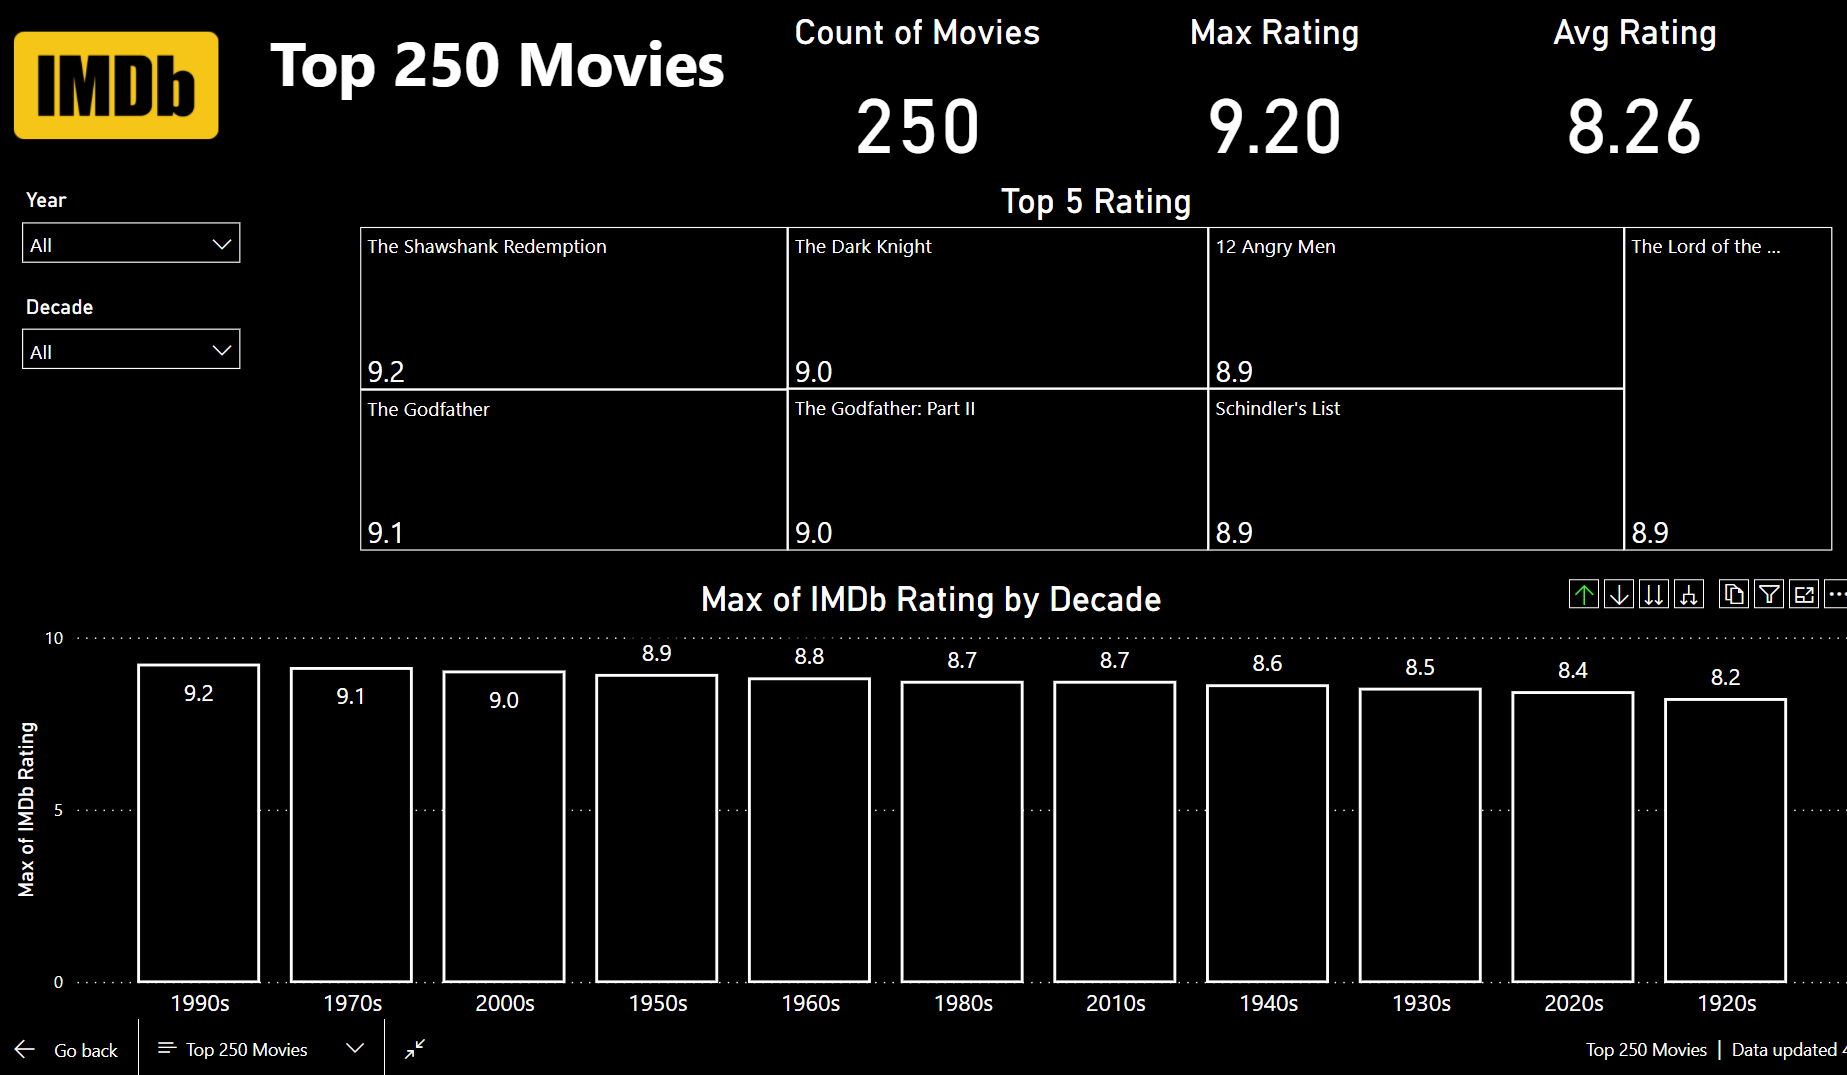

Layout of this report page (visuals, bound fields, positions):
{"tool":"powerbi","page":{"name":"Top 250 Movies","canvas":[1280,720],"ordinal":0},"visuals":[{"type":"card","title":"Count of Movies","fields":{"Values":["Top 250 Movies.Count of Movies"]},"box":[523.8,0,213.5,116.9],"z":0},{"type":"lineStackedColumnComboChart","fields":{"Y":["Max(Top 250 Movies.IMDb Rating)"],"Category":["Top 250 Movies.Decade Hierarchy.Decade","Top 250 Movies.Decade Hierarchy.Year"]},"box":[0,392.5,1279.8,327.5],"z":1000},{"type":"card","title":"Max Rating","fields":{"Values":["Max(Top 250 Movies.IMDb Rating)"]},"box":[764.7,0,225.1,116.9],"z":2000},{"type":"card","title":"Avg Rating","fields":{"Values":["Avg(Top 250 Movies.IMDb Rating)"]},"box":[1011.5,0,230.9,116.9],"z":3000},{"type":"textbox","box":[171.7,0,336.2,92.3],"z":4000},{"type":"slicer","fields":{"Values":["Top 250 Movies.Year"]},"box":[0,116.9,171.7,73.6],"z":5000},{"type":"slicer","fields":{"Values":["Top 250 Movies.Decade"]},"box":[0,190.5,171.7,70.7],"z":6000},{"type":"treemap","title":"Top 5 Rating","fields":{"Group":["Top 250 Movies.Title"],"Values":["Sum(Top 250 Movies.IMDb Rating)"]},"box":[239.5,116.9,1028.8,261.2],"z":7000},{"type":"image","box":[0,0,151.5,101.8],"z":8000}]}

Visuals, with their boxes on the page's 1280x720 design canvas (x1, y1, x2, y2). These are canvas units, not pixel positions in the 1847x1075 screenshot, which may show the page scaled, cropped or inside an application window:
"Count of Movies" card: 524:0:737:117
lineStackedColumnComboChart - Max(Top 250 Movies.IMDb Rating) x Top 250 Movies.Decade Hierarchy.Decade: 0:392:1280:720
"Max Rating" card: 765:0:990:117
"Avg Rating" card: 1012:0:1242:117
textbox: 172:0:508:92
slicer - Top 250 Movies.Year: 0:117:172:190
slicer - Top 250 Movies.Decade: 0:190:172:261
"Top 5 Rating" treemap: 240:117:1268:378
image: 0:0:152:102
